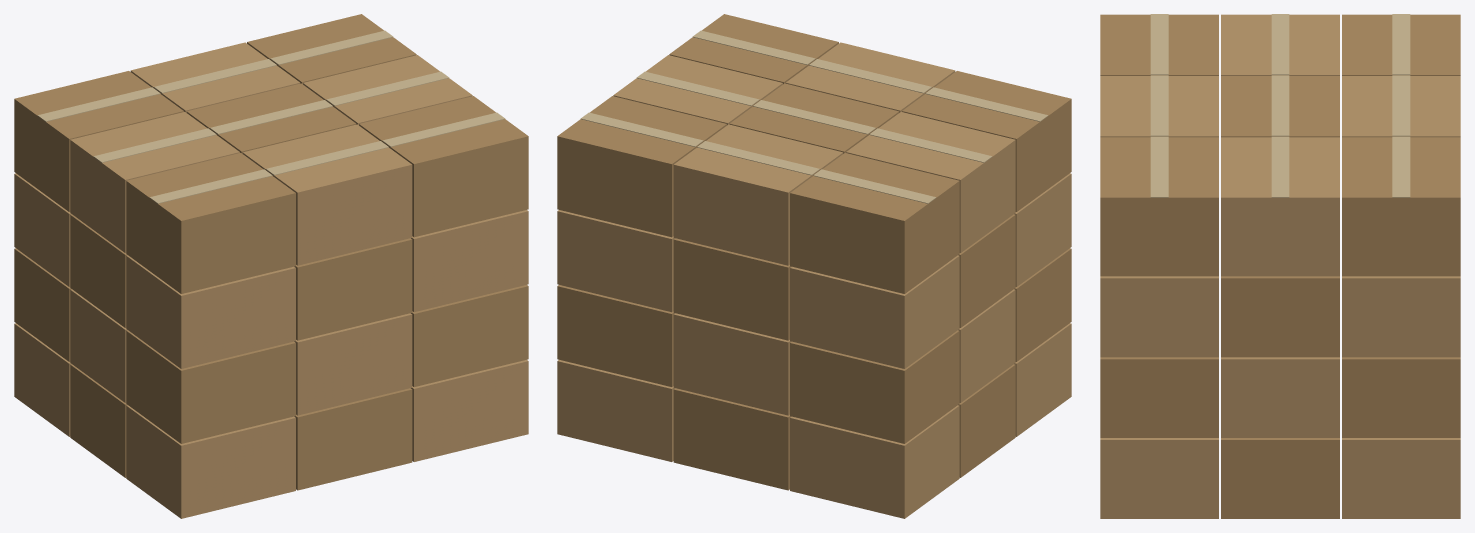
Rendered from load-gma-cartons.glb.
3 views of the same model, side by side, from view 1: azimuth 30°, elevation 25°; view 2: azimuth 150°, elevation 25°; view 3: azimuth 270°, elevation 25° (orthographic). The views are drawn at different scales.
Parts seen in each view (by area): view 1: load-cartons; view 2: load-cartons; view 3: load-cartons.
Part boxes in pixels (box(x1,y1,x2,y2)): load-cartons: box(14, 14, 528, 518); load-cartons: box(557, 14, 1071, 518); load-cartons: box(1100, 14, 1460, 518).
Bounding box in the file's own units: 1.21 × 0.996 × 1.01.
